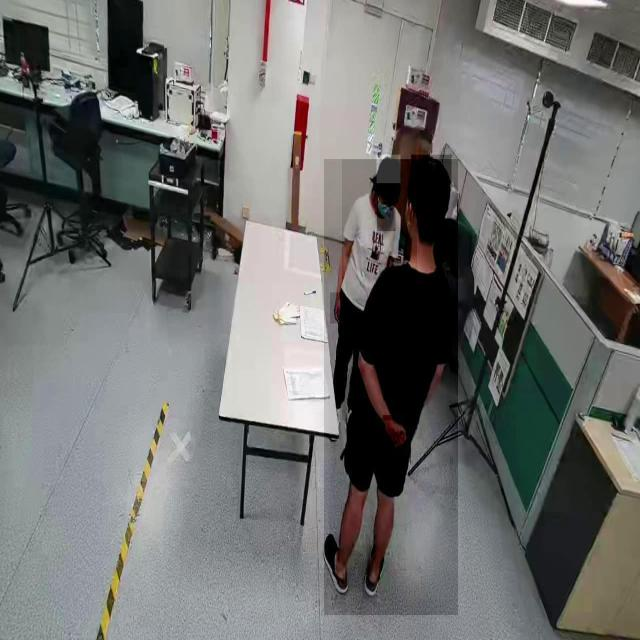face_mask: (377, 184, 395, 231)
hand_noglove: (383, 415, 407, 450), (330, 292, 342, 324)
head_nohelmet: (411, 155, 452, 192), (377, 155, 401, 184)
person: (324, 159, 458, 616), (342, 159, 417, 421)
shoes: (358, 540, 388, 602), (322, 528, 347, 594)
